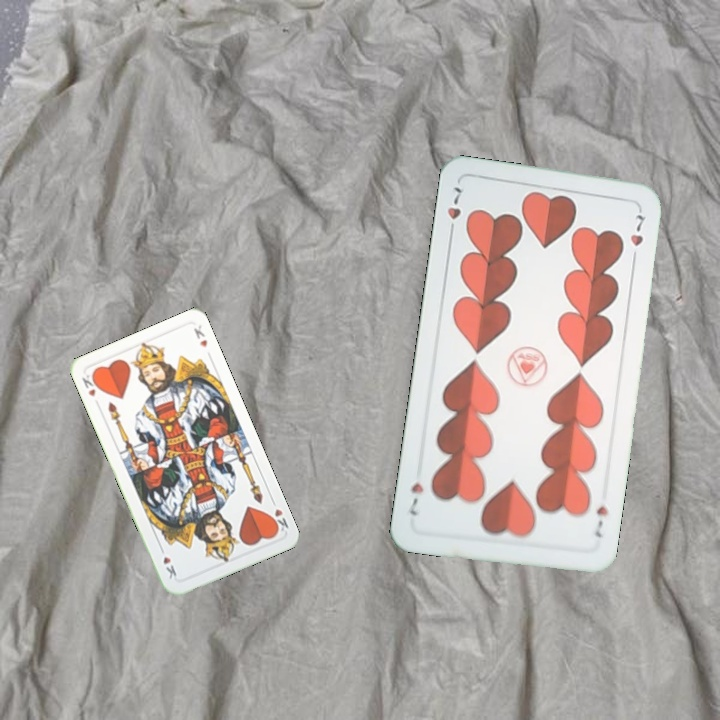H7: (443, 182, 467, 239), (591, 501, 610, 540)
HK: (266, 495, 291, 535), (78, 368, 102, 399)
